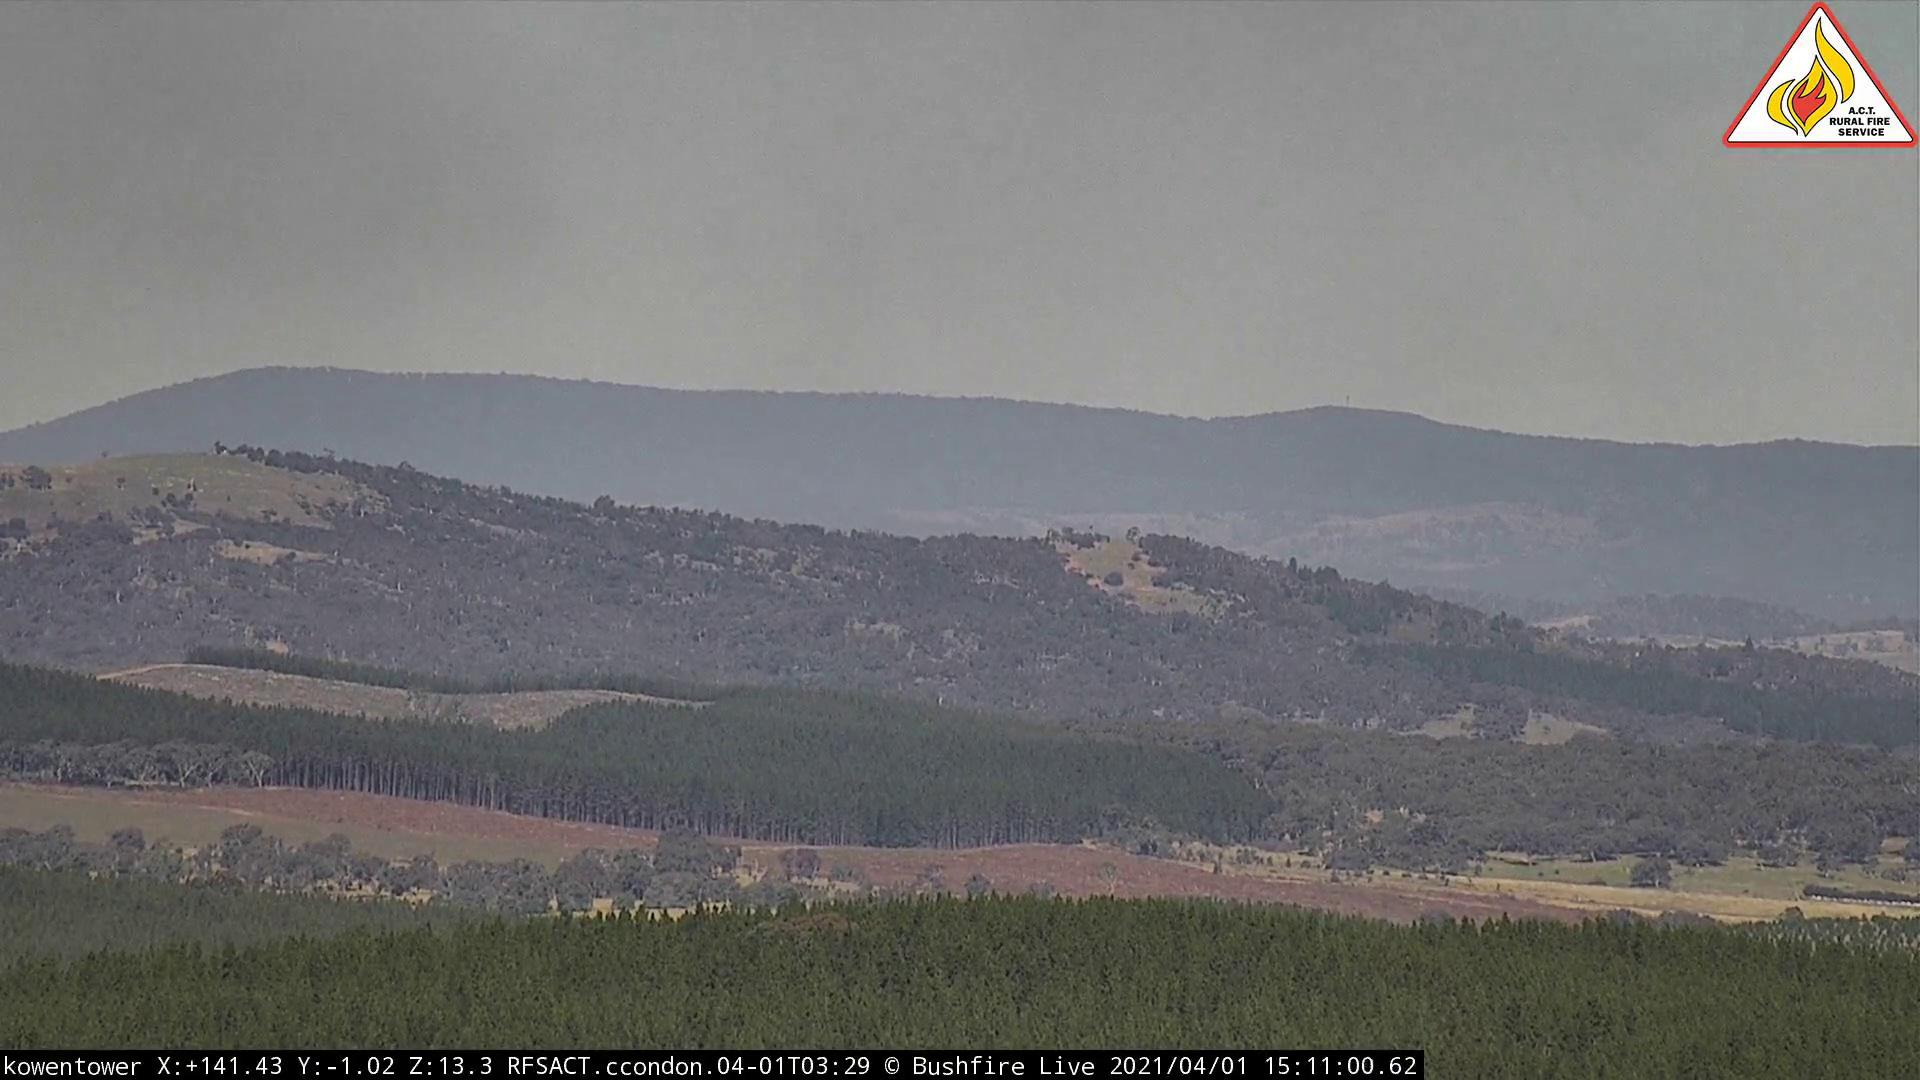instance_salient_object: (3, 3, 622, 436)
